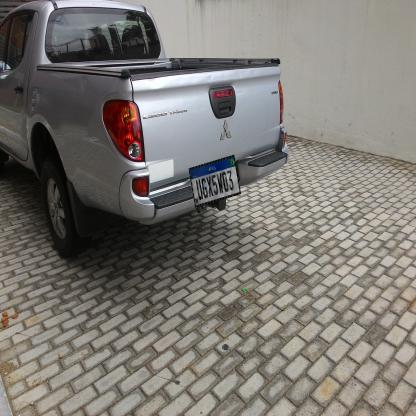PlacaM: (189, 154, 241, 208)
